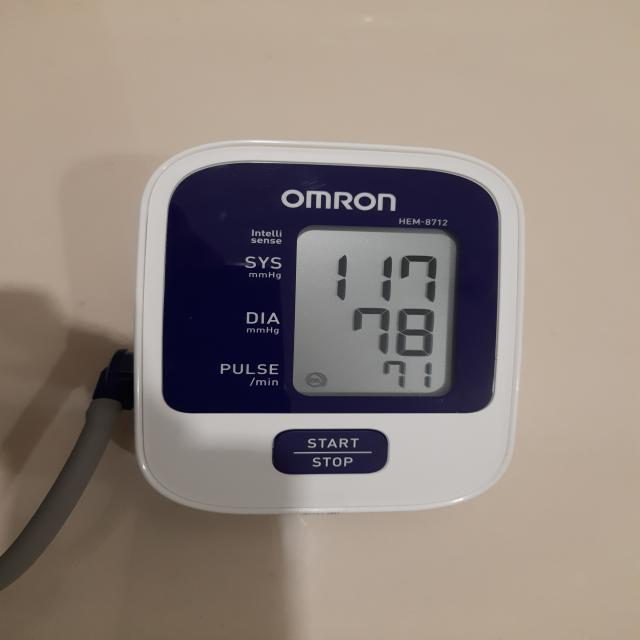display: (294, 230, 454, 396)
frame: (330, 250, 442, 304), (350, 306, 435, 359), (379, 360, 435, 391), (425, 218, 449, 227)
gauge: (136, 138, 524, 518)
